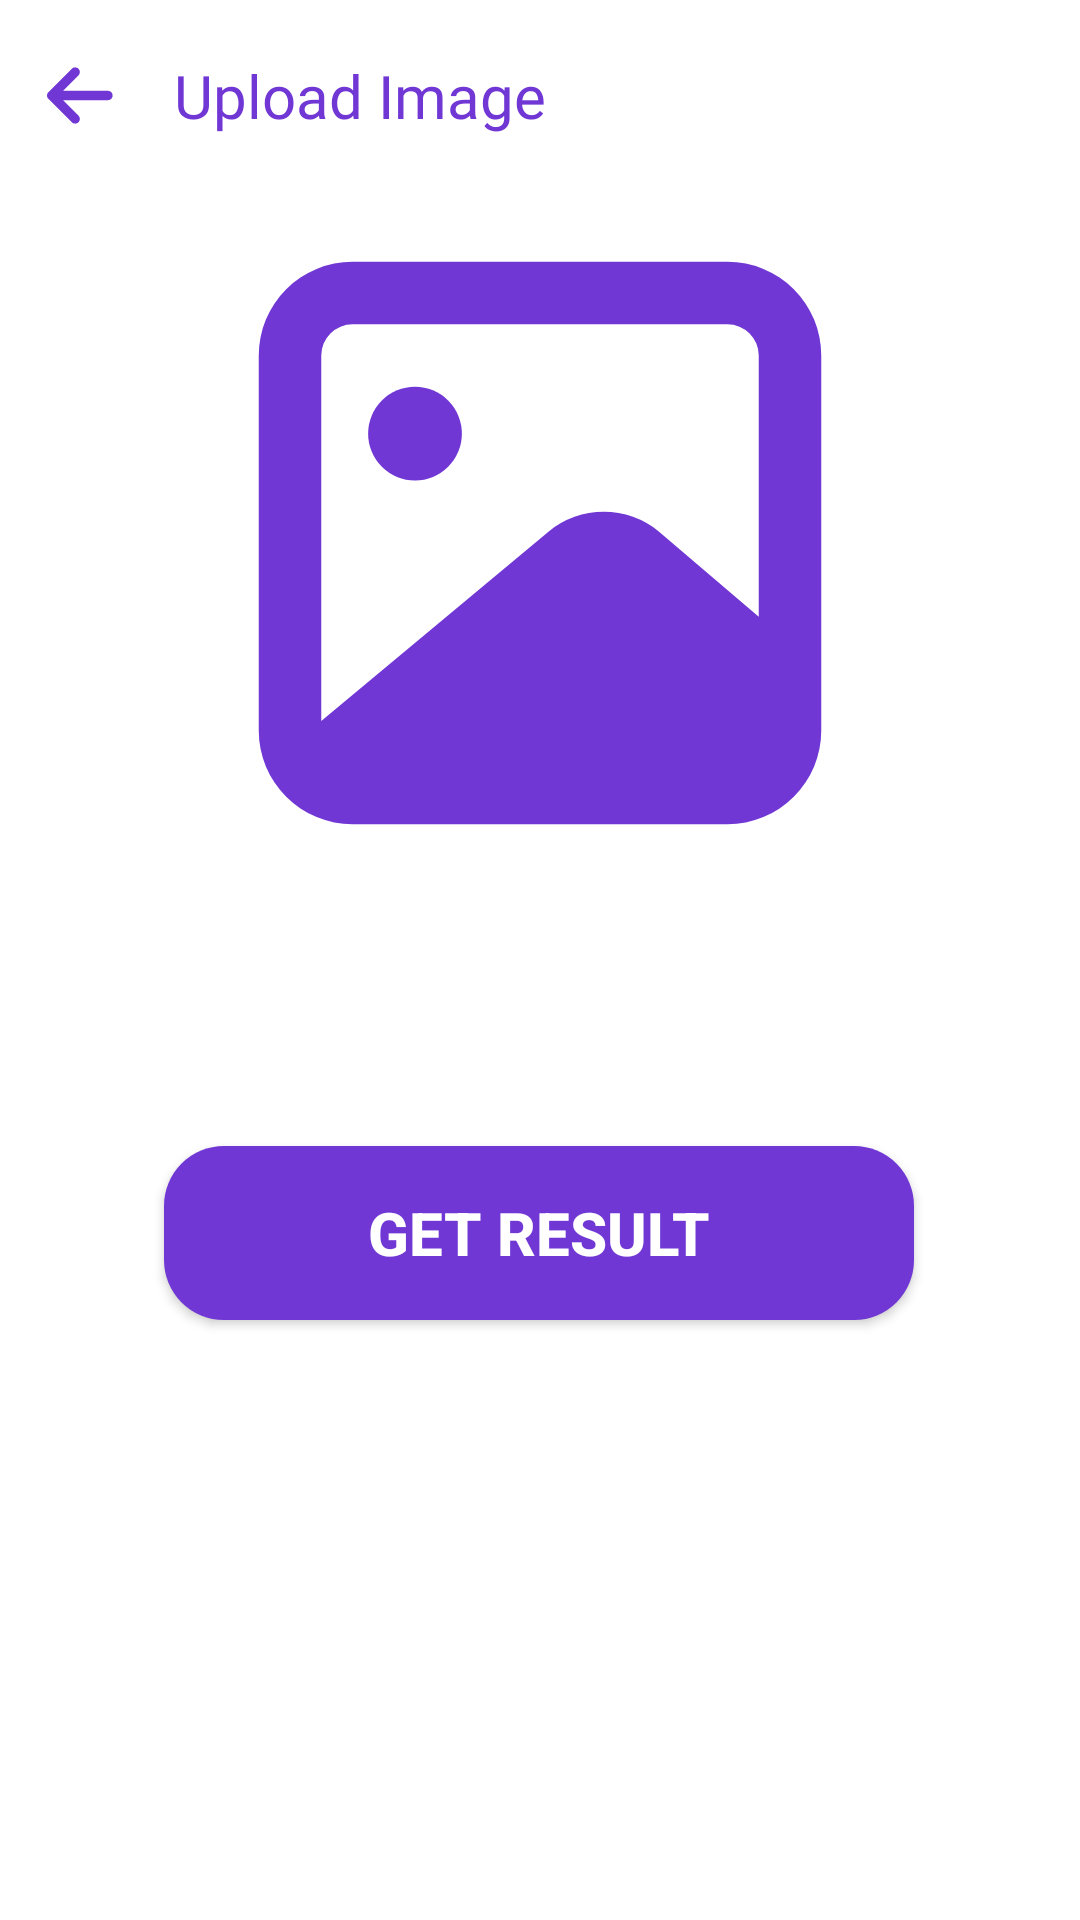

Locate icon controls on the screen. Image size 1080 x 1920, boxes as [left=x1, top=y1, right=x2, bottom=y2].
backbtn: [left=47, top=67, right=113, bottom=124]
